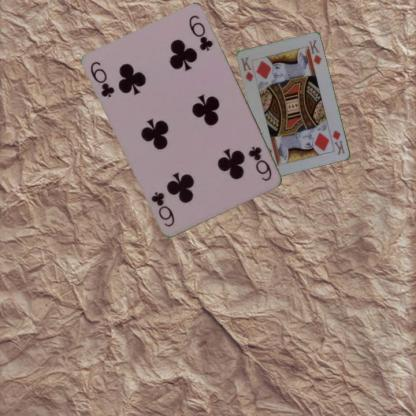6c: (246, 143, 275, 183), (88, 58, 116, 99)
Kd: (239, 54, 258, 84), (330, 128, 347, 156)
